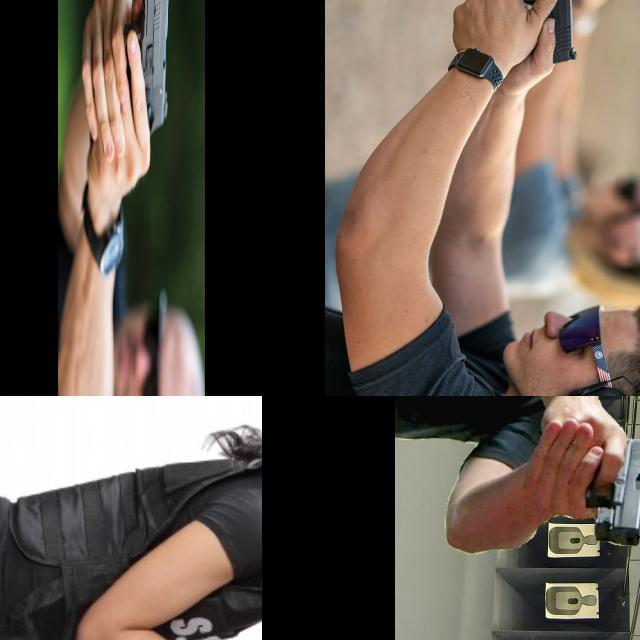handgun: (116, 0, 173, 145), (574, 436, 640, 550), (499, 0, 579, 71)
